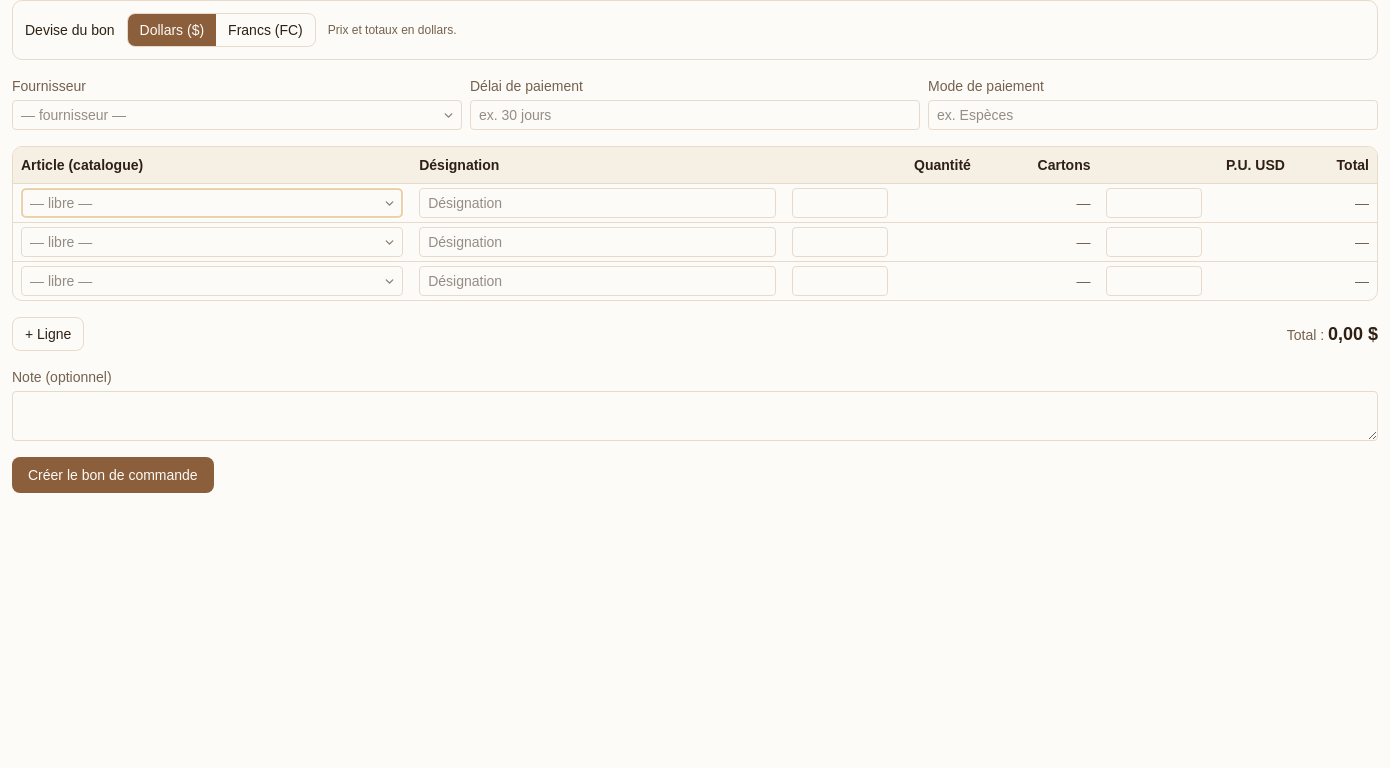
Test: bon de commande — devise du bon › l'article dont le prix de référence est en francs : exact en FC, « ≈ » seulement en dollars
Click the 1st dropdown with placeholder "— libre —" at (212, 203), box [21,188,403,218]
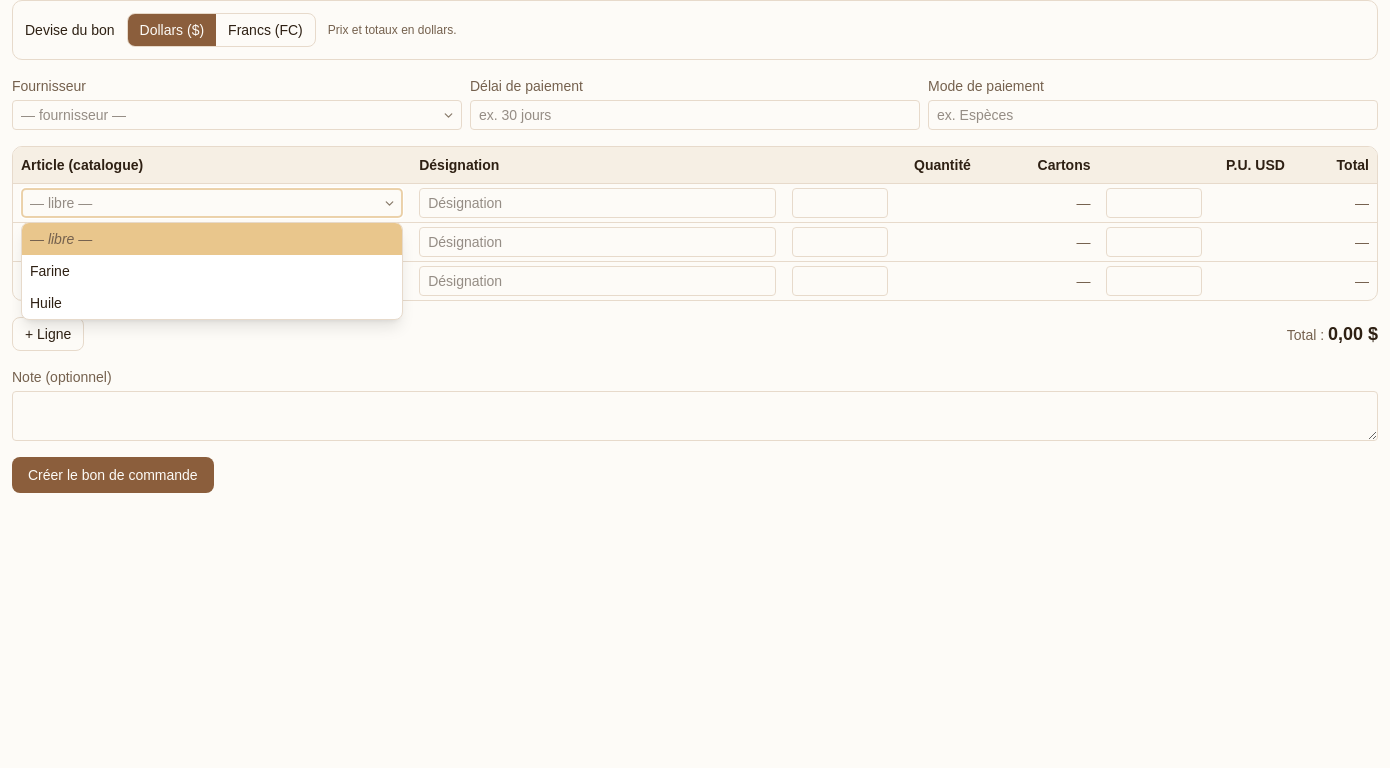
Click the option "Huile" at (46, 303), box [30,295,62,311]
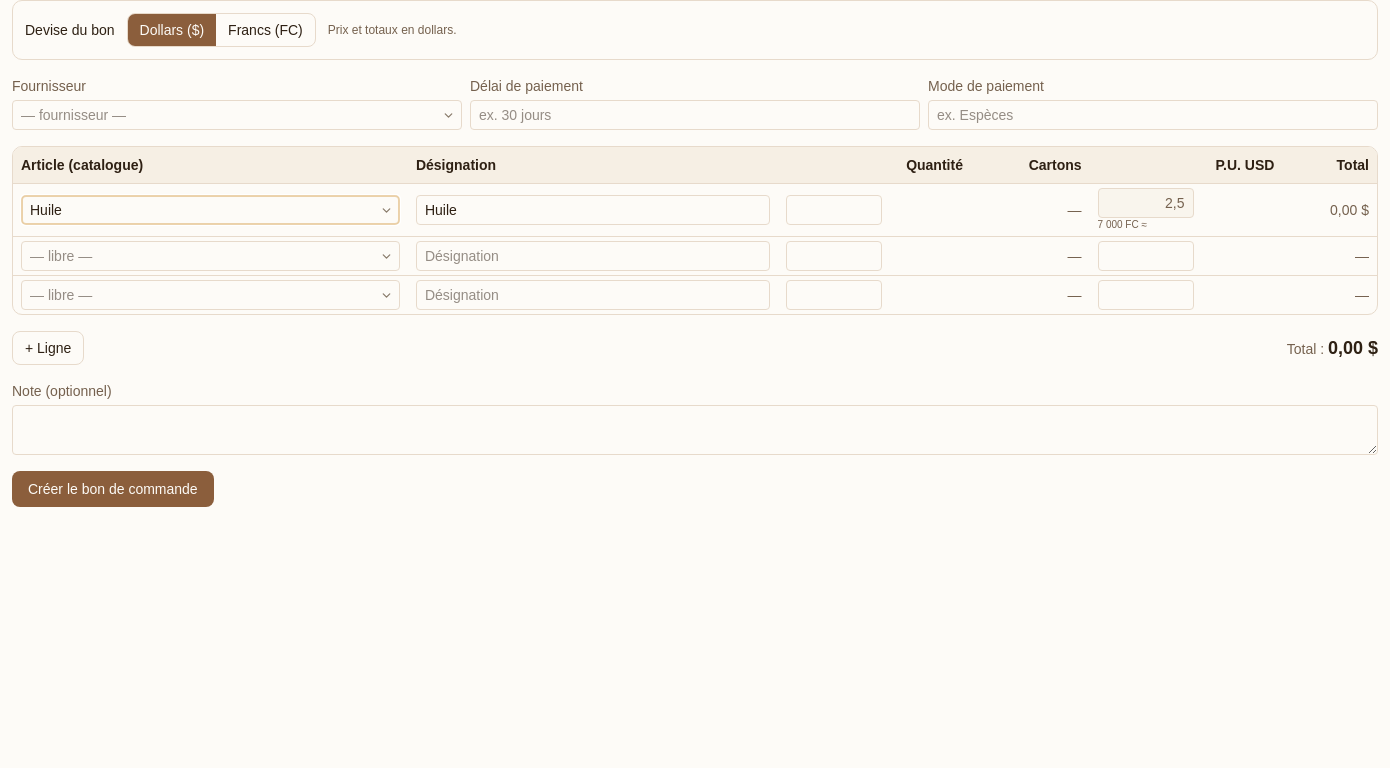
Result: the text "7 000 FC ≈" is shown at [1098,219,1147,230]
Click the button "Francs (FC)" at (265, 30), box [216,14,315,46]
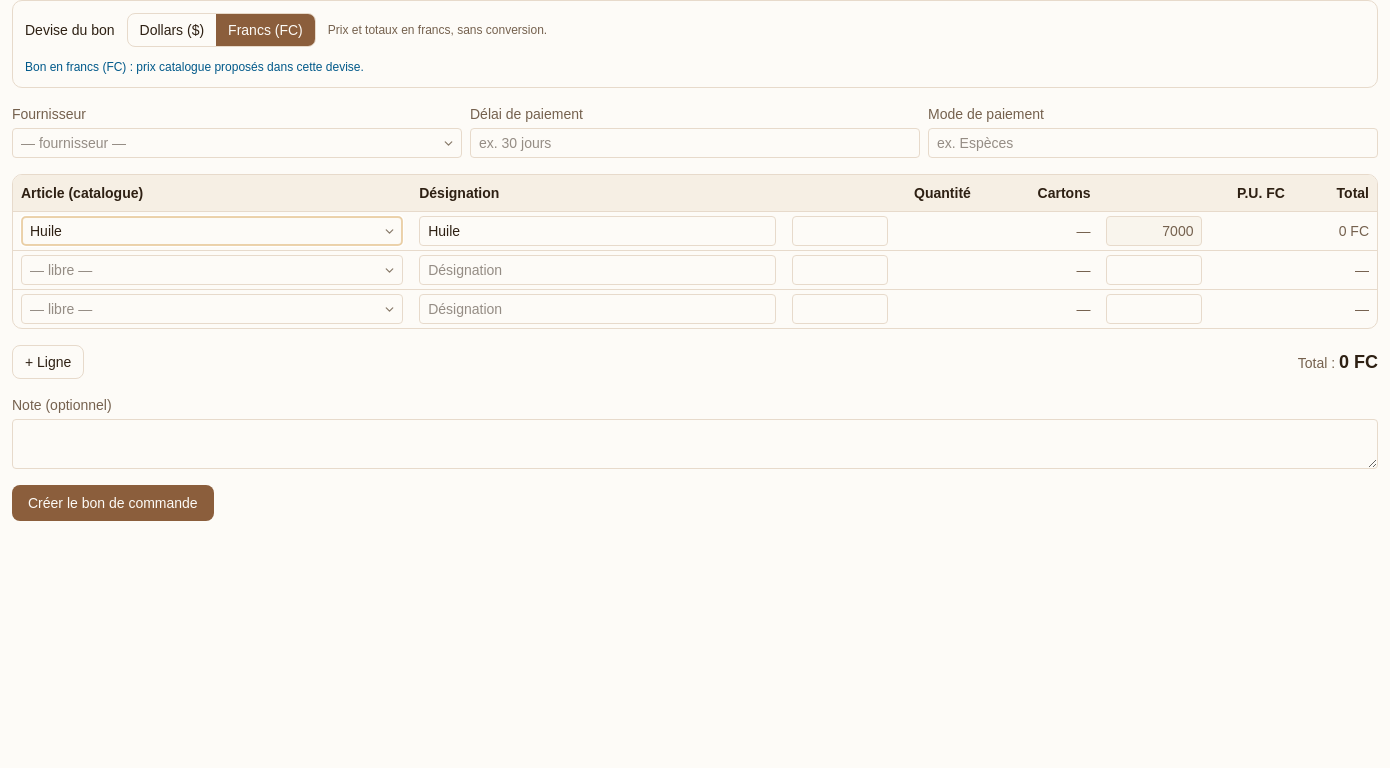
Result: the text "7 000 FC ≈" is gone
